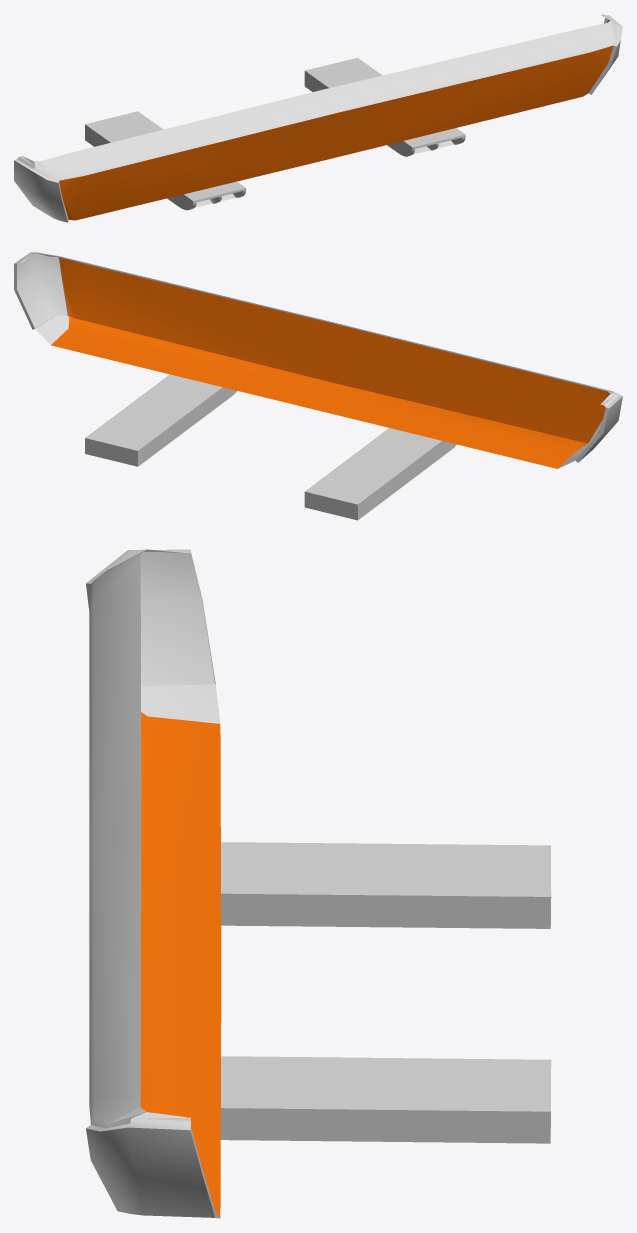
The model's file is Muscle_2_Bumper_B_1.fbx.
The picture shows the model from 3 angles, top to bottom: view 1: azimuth 30°, elevation 25°; view 2: azimuth 150°, elevation 25°; view 3: azimuth 270°, elevation 25°; orthographic projection. The views are drawn at different scales.
Visible parts, largest first — view 1: Muscle_2_Bumper_B_1; view 2: Muscle_2_Bumper_B_1; view 3: Muscle_2_Bumper_B_1.
Part boxes in pixels (x1,y1,x2,y2): Muscle_2_Bumper_B_1: (14, 14, 622, 222); Muscle_2_Bumper_B_1: (14, 251, 622, 520); Muscle_2_Bumper_B_1: (86, 549, 551, 1218).
Size of the model in its own units: 155 by 23 by 52.46.
